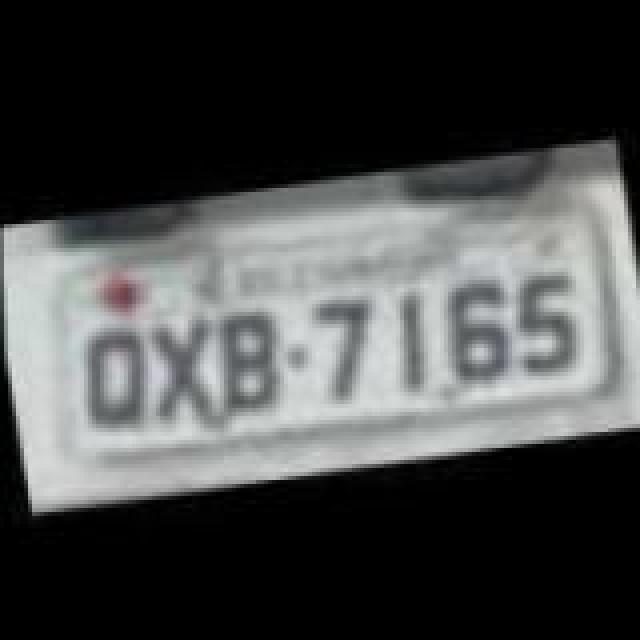1: (384, 284, 436, 396)
5: (504, 256, 588, 380)
6: (434, 266, 514, 390)
7: (308, 292, 384, 412)
B: (212, 304, 292, 416)
O: (72, 322, 160, 434)
X: (144, 306, 224, 426)
